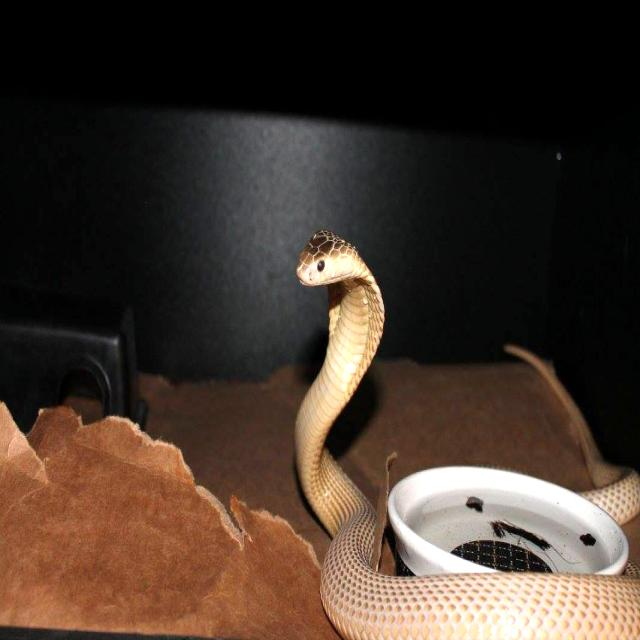Naja kaouthia: (295, 232, 639, 639)
